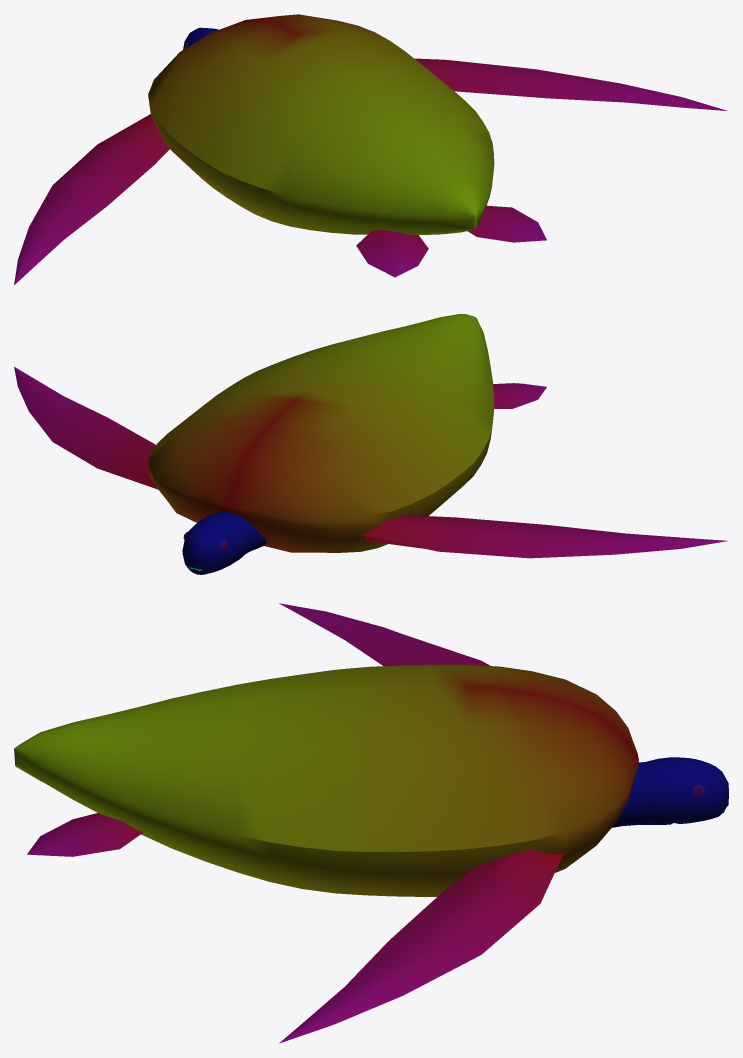
Rendered from sea_turtle_leatherback_lo.glb.
3 renders of one model, top to bottom at view 1: azimuth 30°, elevation 25°; view 2: azimuth 150°, elevation 25°; view 3: azimuth 270°, elevation 25°, orthographic. The views are drawn at different scales.
Parts seen in each view (by area): view 1: sea_turtle_leatherback_lo; view 2: sea_turtle_leatherback_lo; view 3: sea_turtle_leatherback_lo.
Boxes of the visible parts, box(x1,y1,x2,y2) form: sea_turtle_leatherback_lo: box(14, 14, 727, 285); sea_turtle_leatherback_lo: box(14, 314, 727, 574); sea_turtle_leatherback_lo: box(14, 603, 728, 1043).
Bounding box in the file's own units: 3 × 0.5381 × 2.06.
